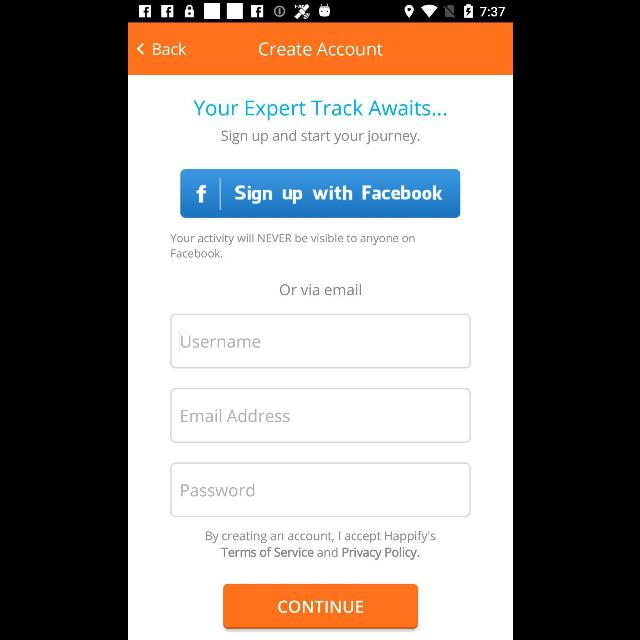icon: (136, 43, 144, 55)
input: (170, 388, 470, 444), (170, 462, 470, 518), (170, 314, 470, 368)
text: (205, 530, 435, 560), (170, 234, 414, 258), (192, 100, 446, 122), (220, 130, 420, 144), (258, 42, 382, 56), (181, 410, 289, 422), (279, 284, 361, 296), (180, 336, 260, 348), (180, 484, 253, 496), (152, 42, 186, 56)
textbutton: (180, 170, 460, 218), (222, 584, 418, 628)
toolbar: (128, 23, 512, 75)
uppertaskbar: (128, 1, 512, 23)
